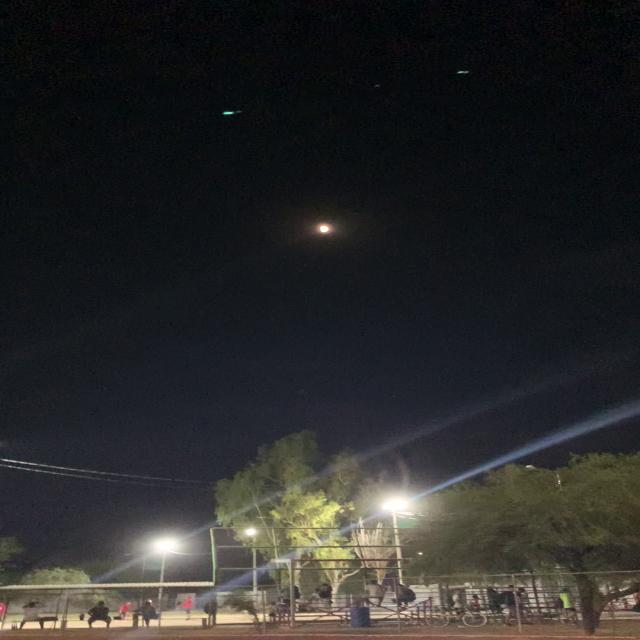moon: (309, 217, 346, 242)
